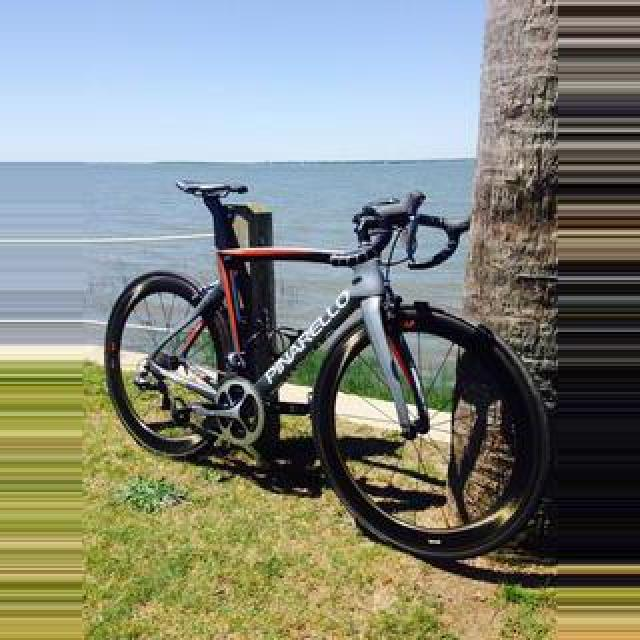Person: (108, 183, 554, 565)
